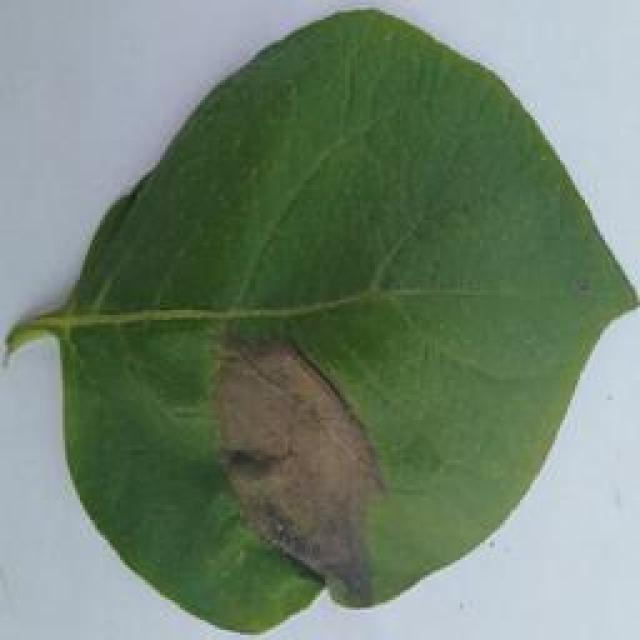Potato_Late_Blight: (4, 7, 627, 630)
